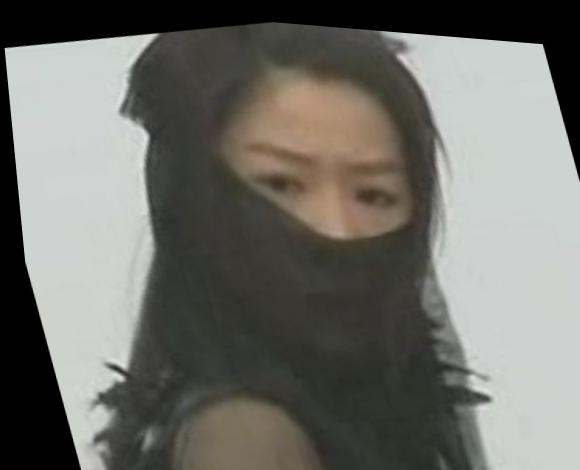WRONG: (190, 93, 456, 374)
